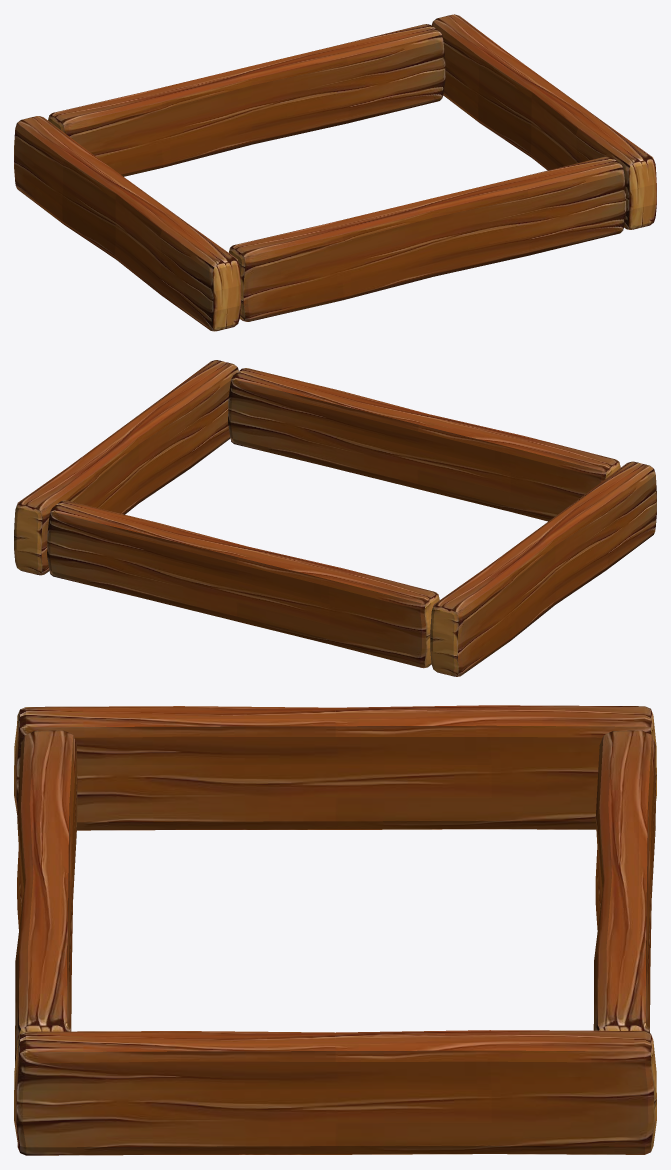
File: bed_frame.glb
The picture shows the model from 3 angles, top to bottom: view 1: azimuth 30°, elevation 25°; view 2: azimuth 150°, elevation 25°; view 3: azimuth 270°, elevation 25°; orthographic projection. The views are drawn at different scales.
Visible parts, largest first — view 1: bed_frame; view 2: bed_frame; view 3: bed_frame.
Part boxes in pixels (left/top/right/bottom): bed_frame: left=14, top=14, right=656, bottom=331; bed_frame: left=14, top=360, right=656, bottom=676; bed_frame: left=14, top=705, right=656, bottom=1155.
Size of the model in its own units: 3.04 by 0.453 by 2.37.
1 material, 1 textured.
